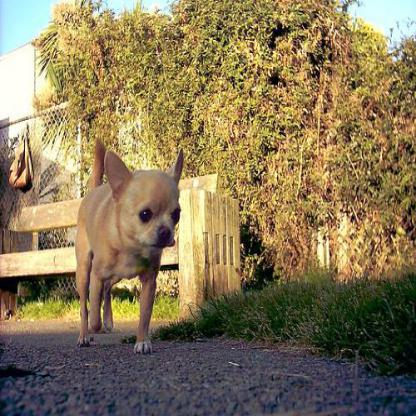dog: (73, 133, 192, 362)
